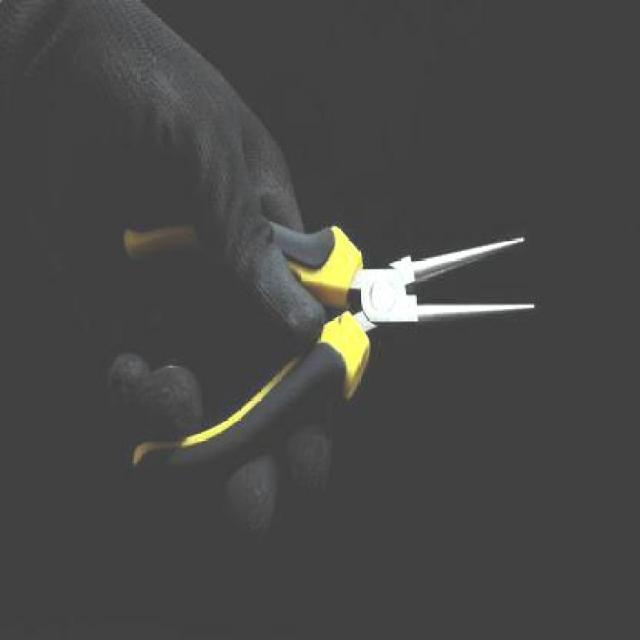pliers: (105, 223, 548, 472)
